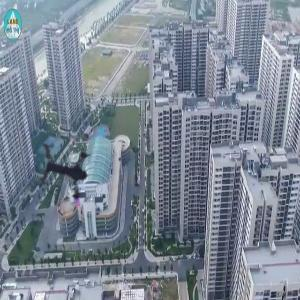drone: (34, 132, 116, 214)
